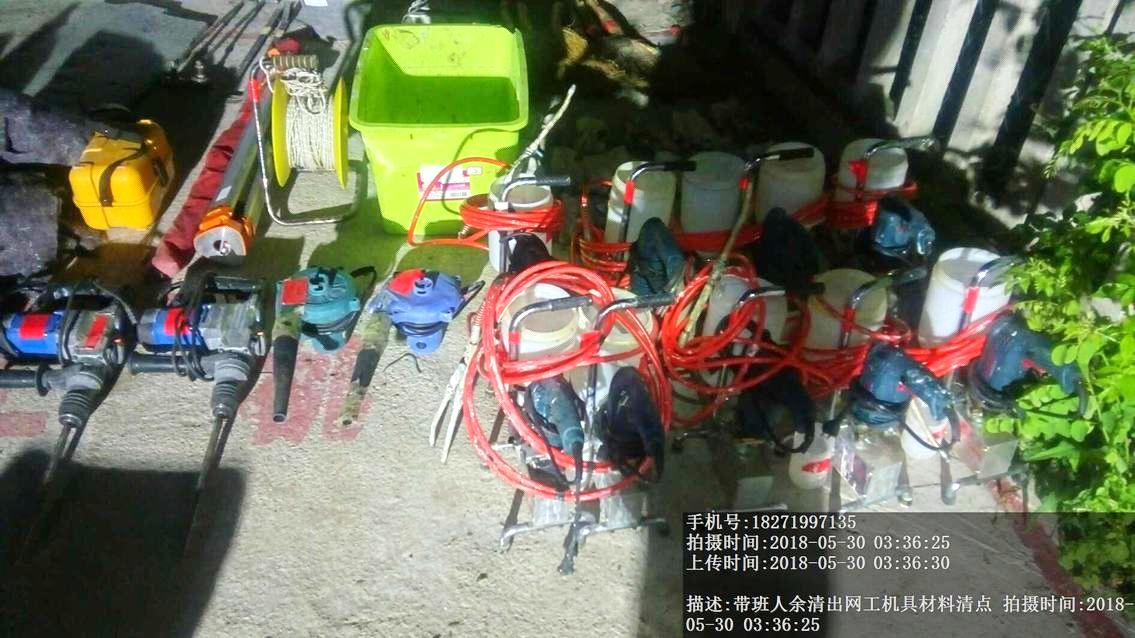DX: (248, 60, 373, 233)
DZ: (4, 279, 136, 482), (134, 270, 253, 478)
GFJ: (338, 266, 462, 444), (263, 267, 363, 415)
T: (358, 22, 527, 244)
